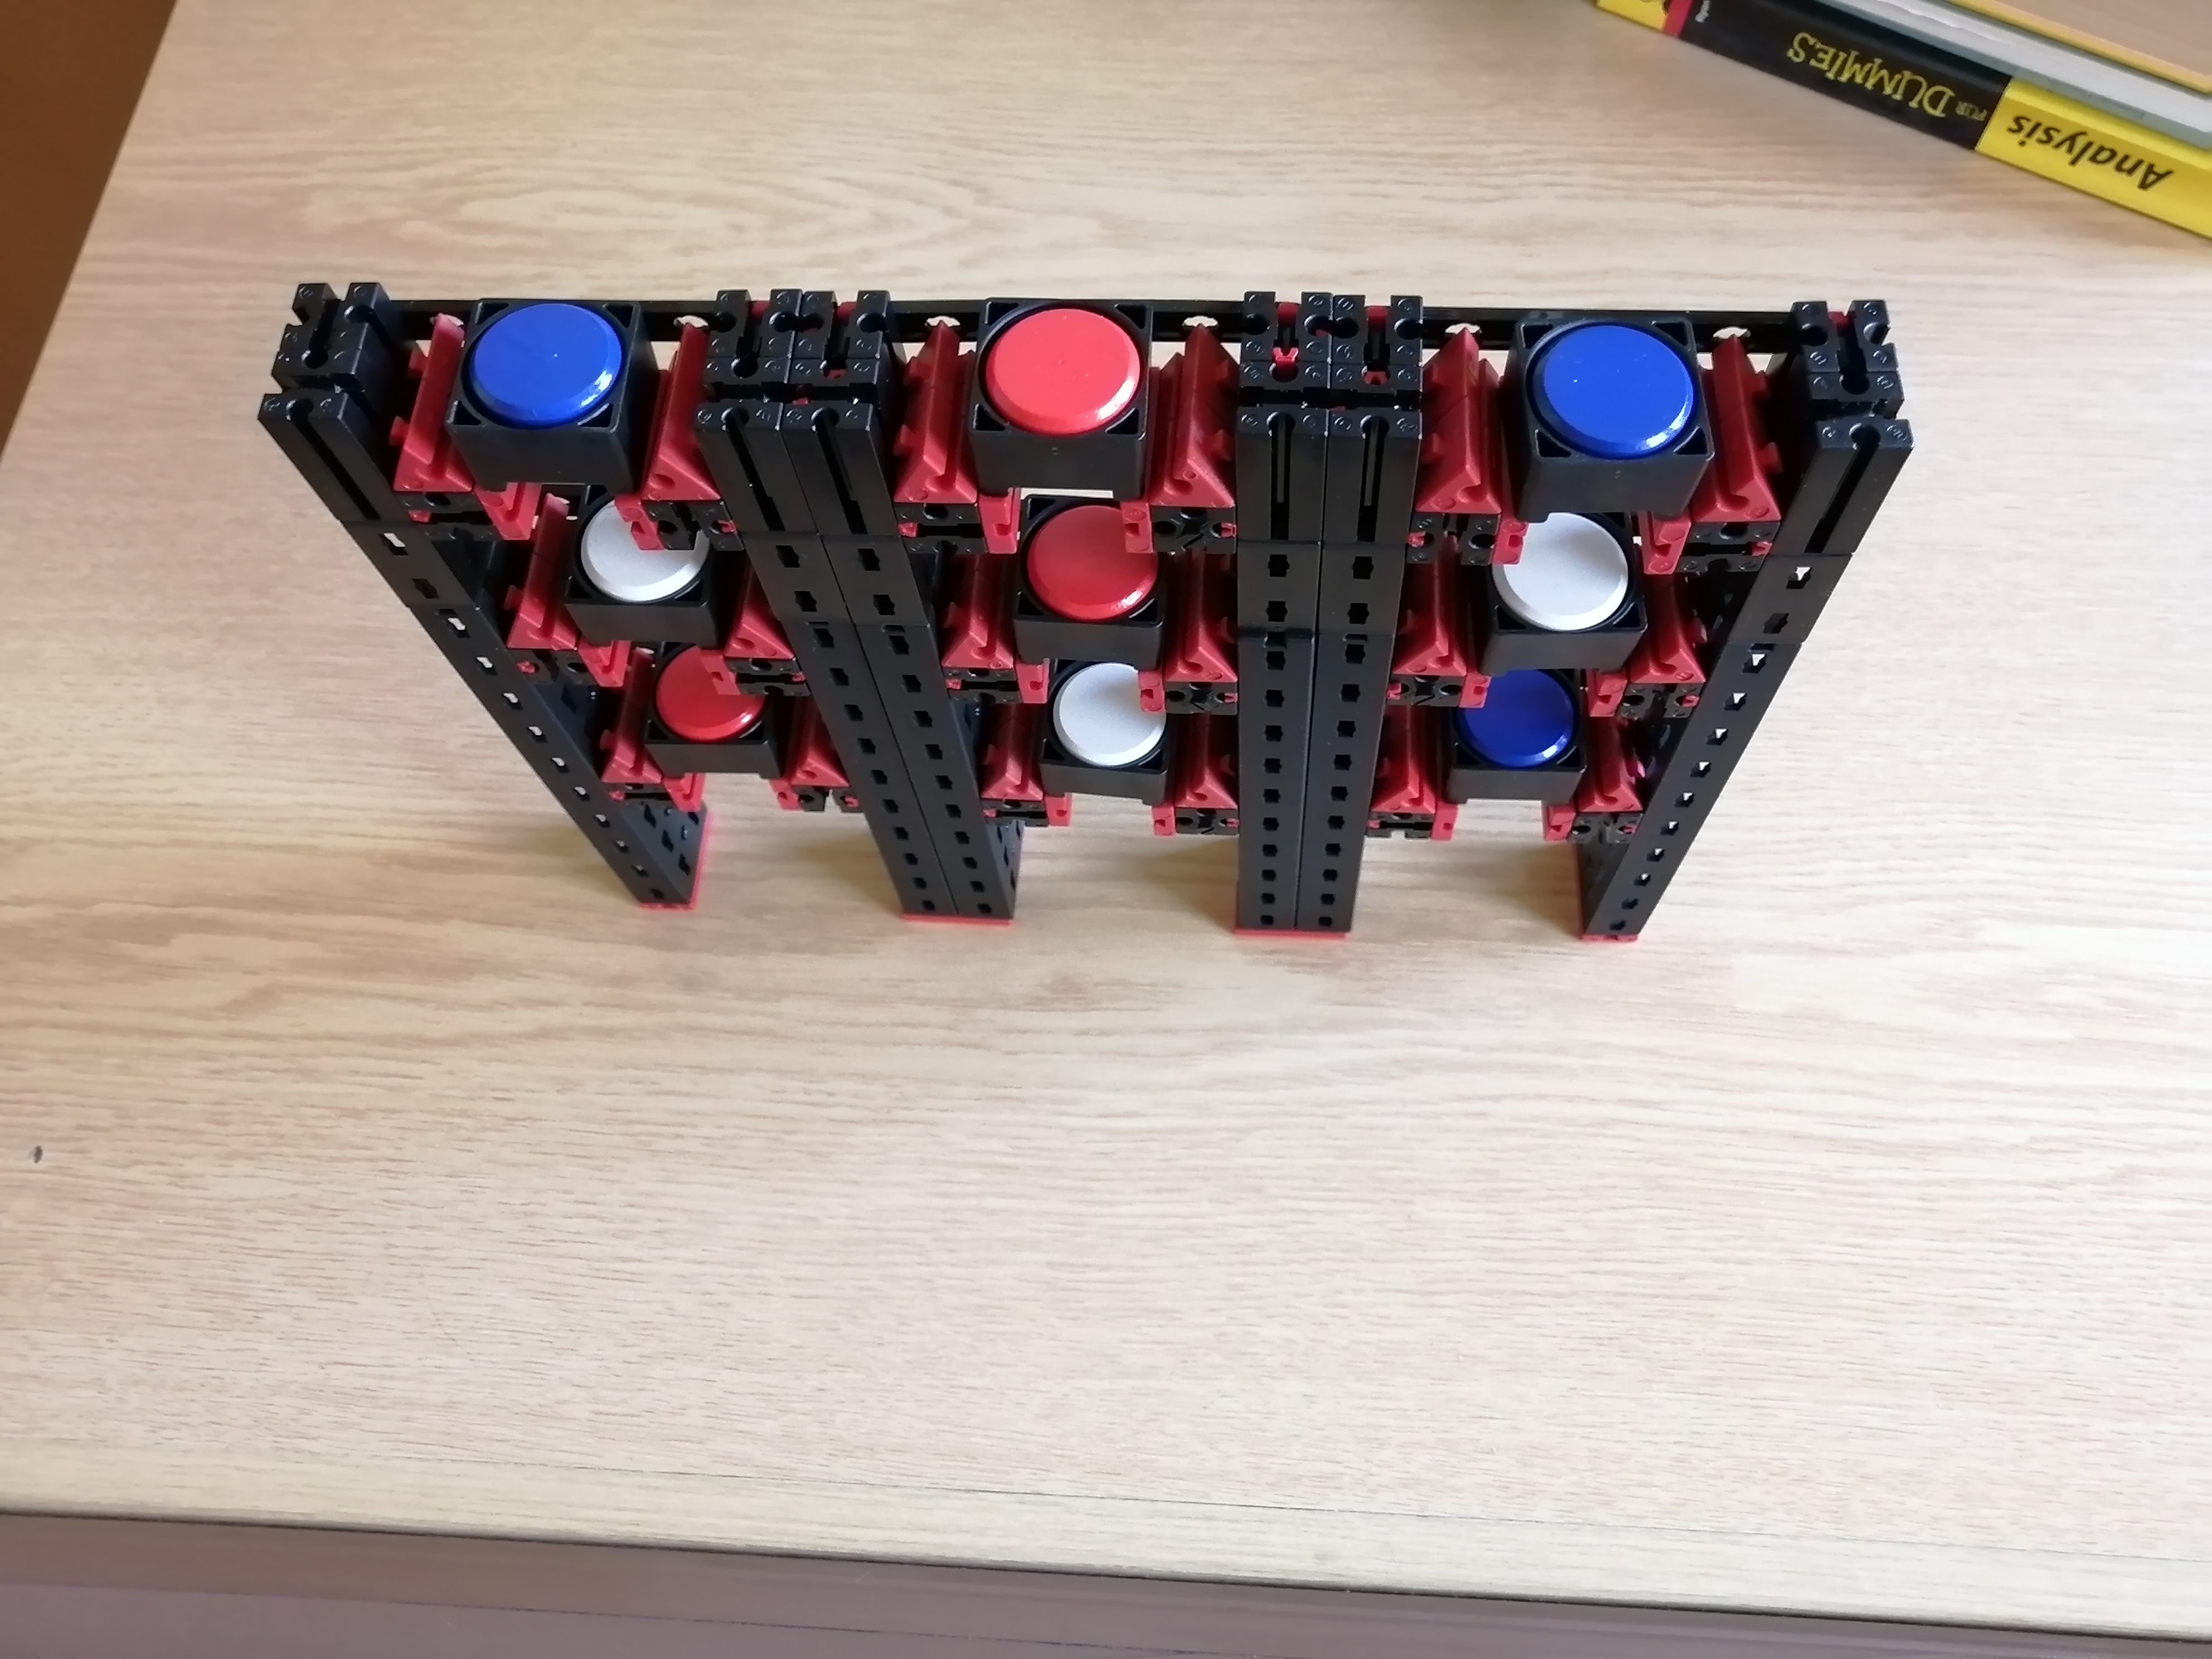Behaelter: (1498, 310, 1703, 519), (448, 298, 653, 497), (975, 305, 1151, 504), (570, 521, 745, 653), (1480, 532, 1637, 678), (1014, 518, 1167, 659), (644, 666, 796, 786), (1040, 687, 1179, 803), (1449, 701, 1585, 803)
WerkStueck: (1529, 326, 1695, 455), (989, 310, 1134, 439), (472, 305, 622, 422), (1507, 511, 1623, 622), (1035, 509, 1146, 615), (1049, 660, 1163, 758), (580, 502, 695, 591), (1470, 680, 1573, 775), (655, 657, 744, 749)
